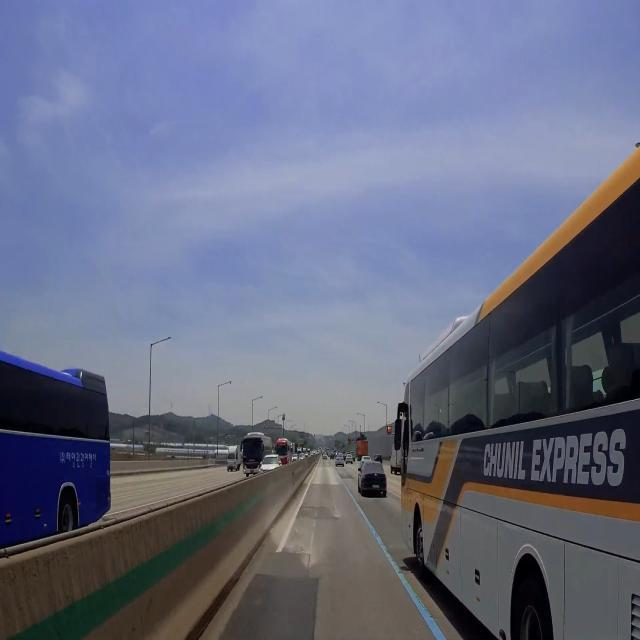car: (370, 482, 383, 495), (246, 468, 258, 477)
